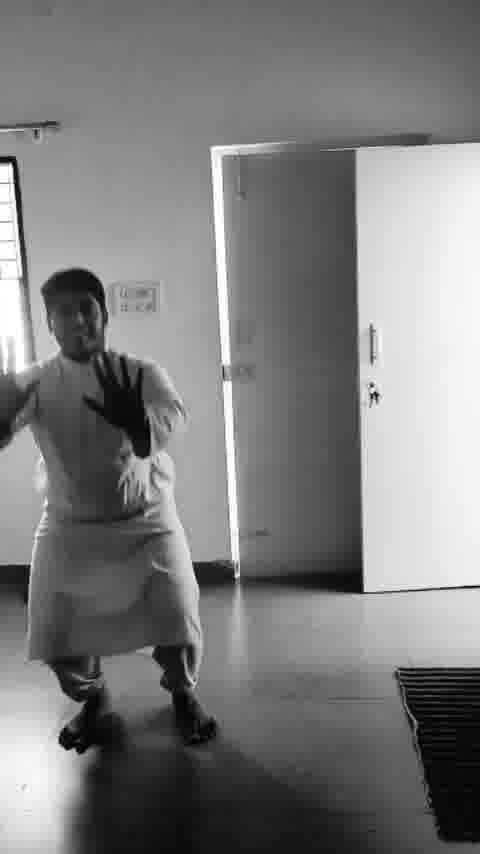duck: (11, 257, 221, 748)
